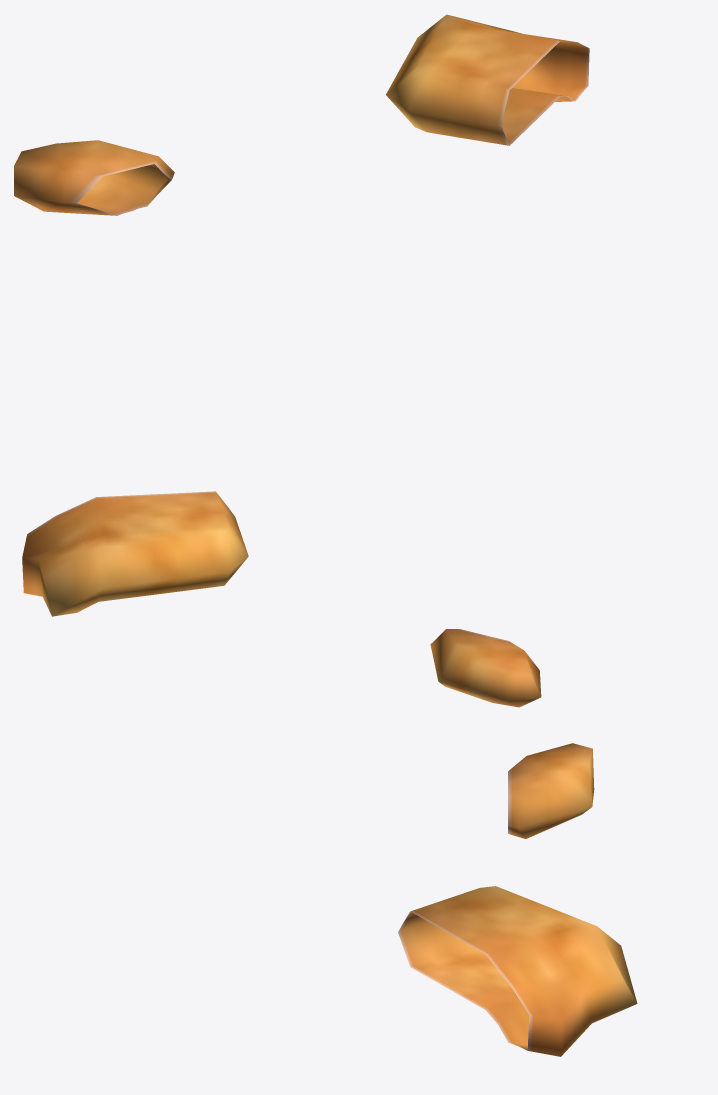
Rendered from mayo.FBX.
3 renders of one model, top to bottom at view 1: azimuth 30°, elevation 25°; view 2: azimuth 150°, elevation 25°; view 3: azimuth 270°, elevation 25°, orthographic. The views are drawn at different scales.
Parts seen in each view (by area): view 1: mayo_LOD00; view 2: mayo_LOD00; view 3: mayo_LOD00.
Boxes of the visible parts, x1=… form: mayo_LOD00: x1=14, y1=14, x2=589, y2=215; mayo_LOD00: x1=22, y1=491, x2=541, y2=707; mayo_LOD00: x1=398, y1=743, x2=637, y2=1056.
Size of what is drawn, in the model's own units: 9.88 by 1.3 by 9.56.
